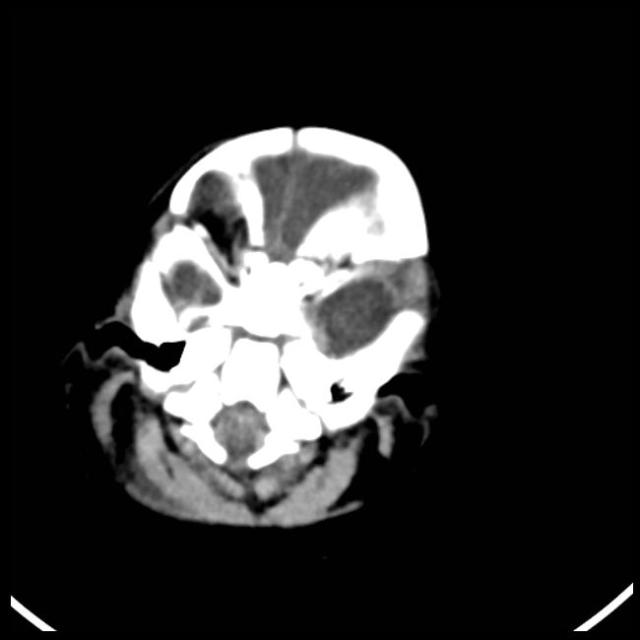lesion: (61, 119, 447, 534)
